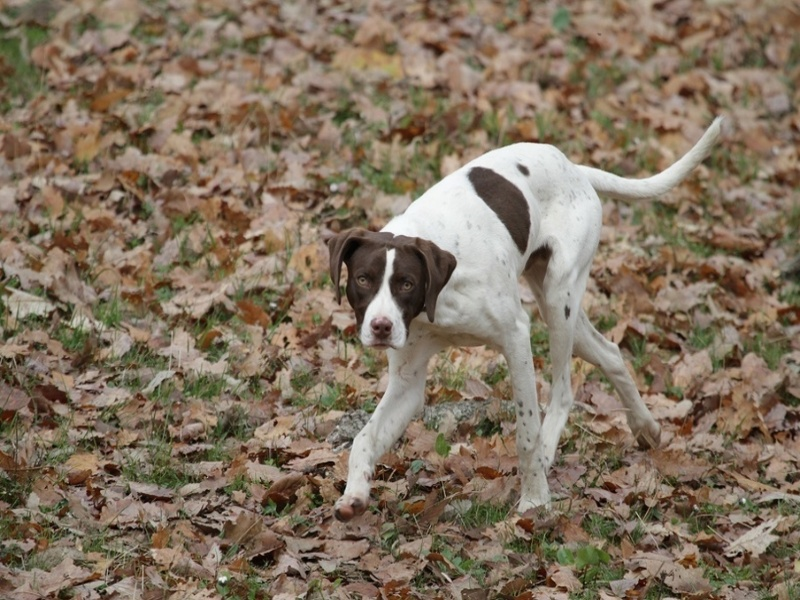dog: (318, 110, 726, 521)
